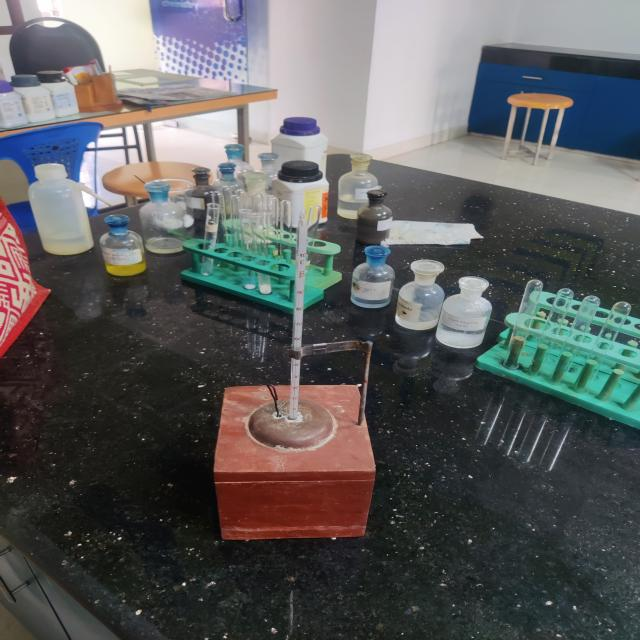Calorimeter: (175, 208, 446, 581)
